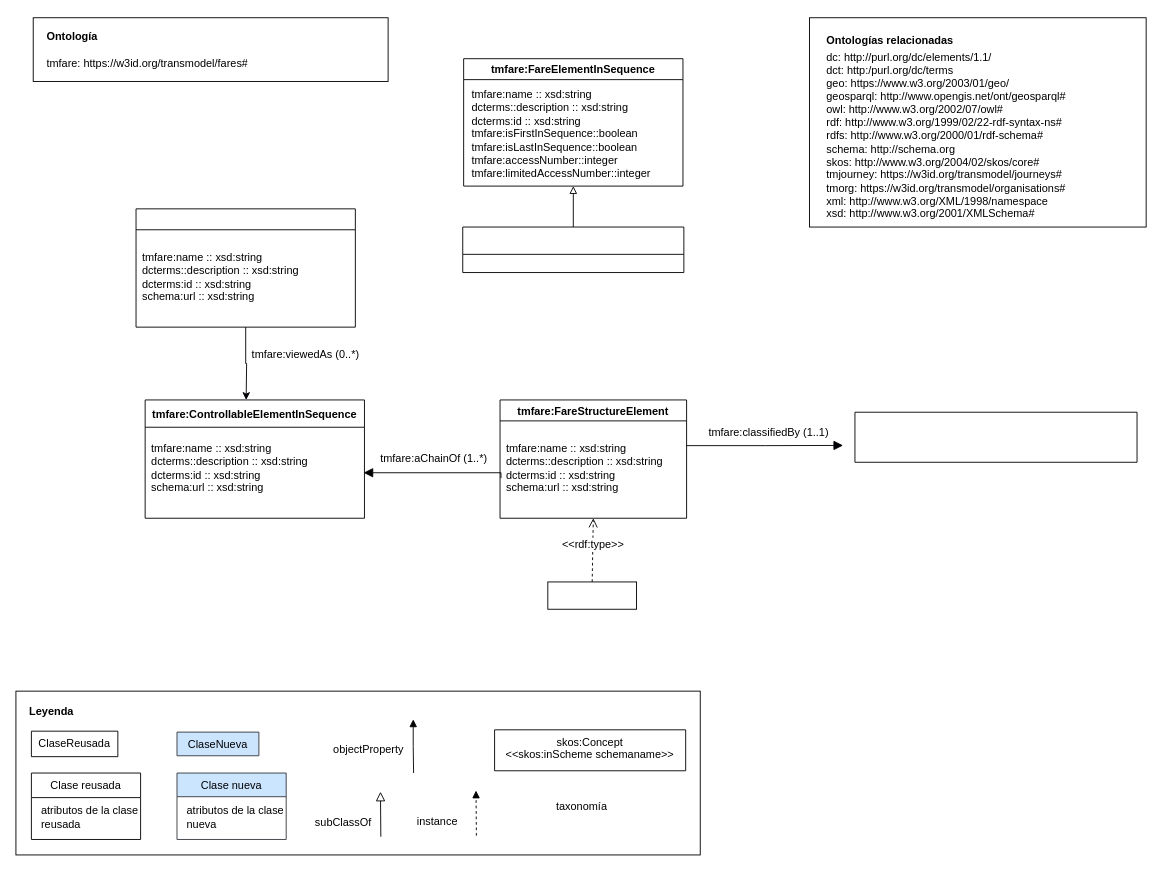
Some shapes in this 1162 by 871 pixel diagram are drawn without their labels. Each missing label, with the box of its shape:
skos:Concept <<skos:inScheme tmkosfare:fareType>>: (854, 411, 1137, 462)
tmfare:ControllableElement: (135, 208, 355, 327)
tmfare:FareStructureElementInSequence: (462, 226, 684, 273)
tmfare:Tariff: (547, 581, 637, 609)
